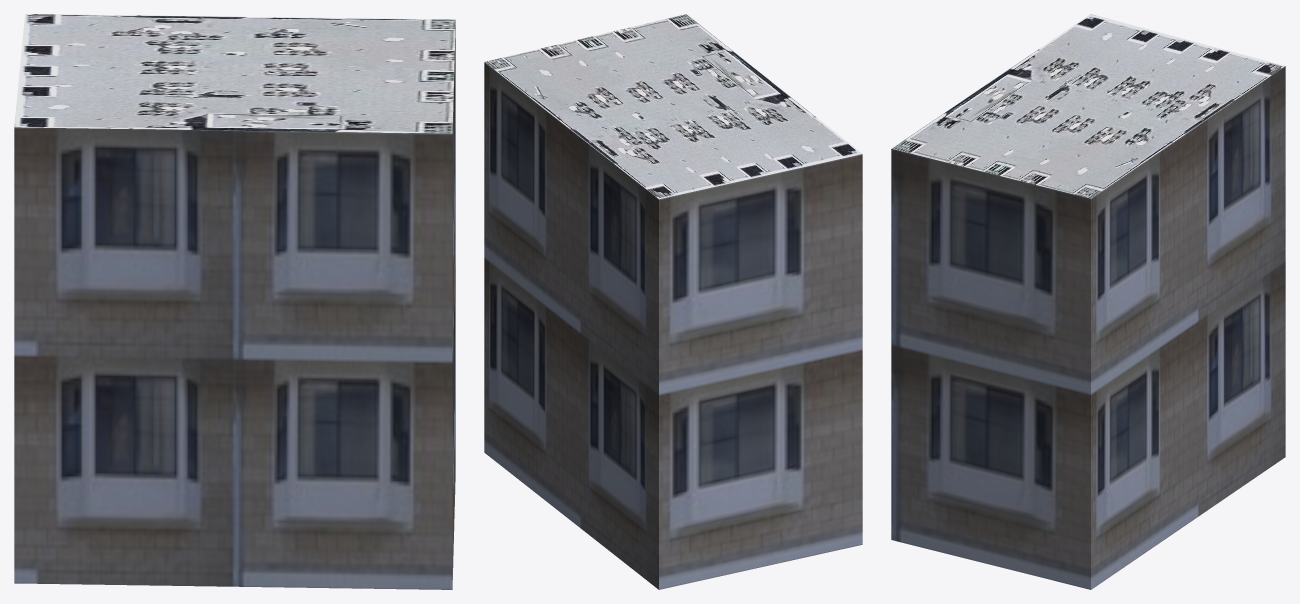
Rendered from ResTex__114.fbx.
3 renders of one model, left to right at view 1: azimuth 30°, elevation 25°; view 2: azimuth 150°, elevation 25°; view 3: azimuth 270°, elevation 25°, orthographic. The views are drawn at different scales.
Visible parts, largest first — view 1: CityEngineMaterial_3_m, CityEngineMaterial_m; view 2: CityEngineMaterial_3_m, CityEngineMaterial_m; view 3: CityEngineMaterial_3_m, CityEngineMaterial_m.
Part boxes in pixels (<box>): CityEngineMaterial_3_m: <box>14,26,455,589</box>; CityEngineMaterial_m: <box>14,14,455,133</box>; CityEngineMaterial_3_m: <box>484,62,862,589</box>; CityEngineMaterial_m: <box>485,14,862,199</box>; CityEngineMaterial_3_m: <box>891,66,1285,589</box>; CityEngineMaterial_m: <box>892,14,1284,198</box>.
Size of the model in its own units: 6.08 by 6 by 5.48.
Materials: 2 (2 with a texture image).
